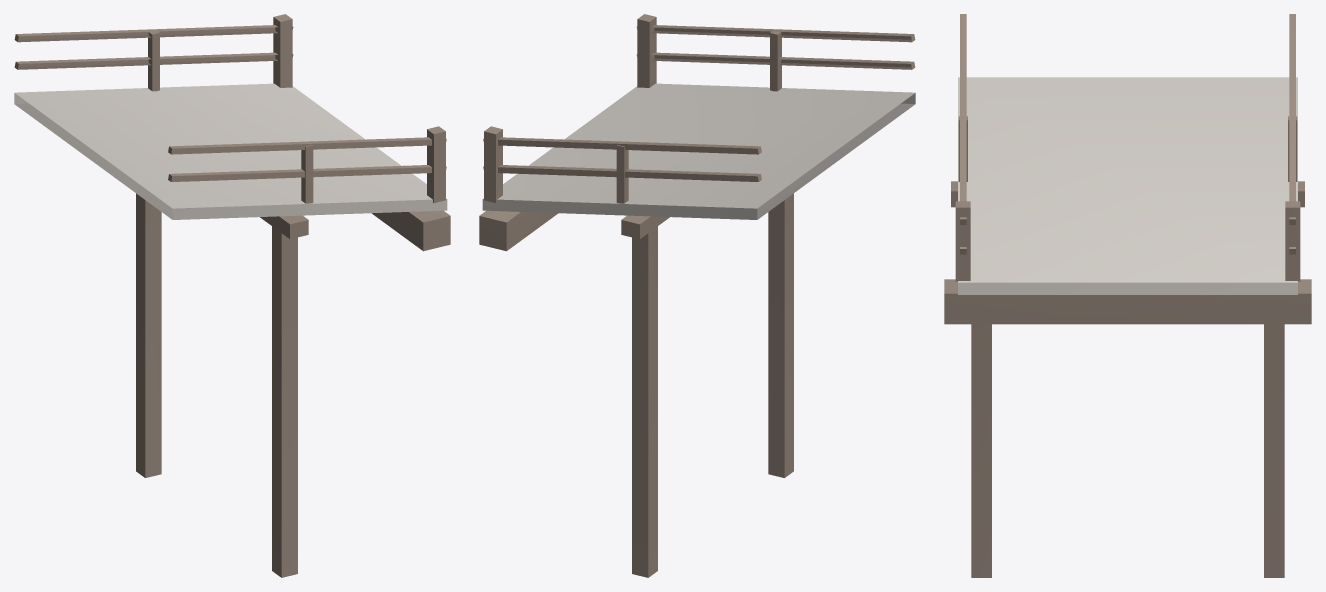
The model's file is bridge_wood_end_0.glb.
The picture shows the model from 3 angles, left to right: view 1: azimuth 30°, elevation 25°; view 2: azimuth 150°, elevation 25°; view 3: azimuth 270°, elevation 25°; orthographic projection. The views are drawn at different scales.
Parts seen in each view (by area): view 1: bridge_wood_end_0; view 2: bridge_wood_end_0; view 3: bridge_wood_end_0.
Part boxes in pixels (x1=…): bridge_wood_end_0: x1=14, y1=14, x2=450, y2=577; bridge_wood_end_0: x1=479, y1=14, x2=915, y2=577; bridge_wood_end_0: x1=944, y1=14, x2=1311, y2=577.
Size of the model in its own units: 5.02 by 8.03 by 5.4.
